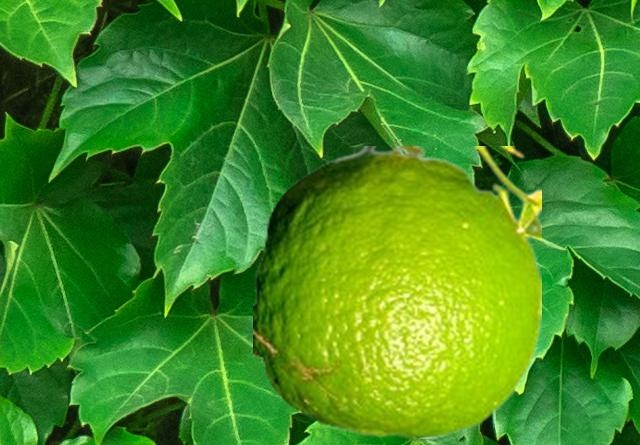dalandan: (253, 146, 540, 437)
